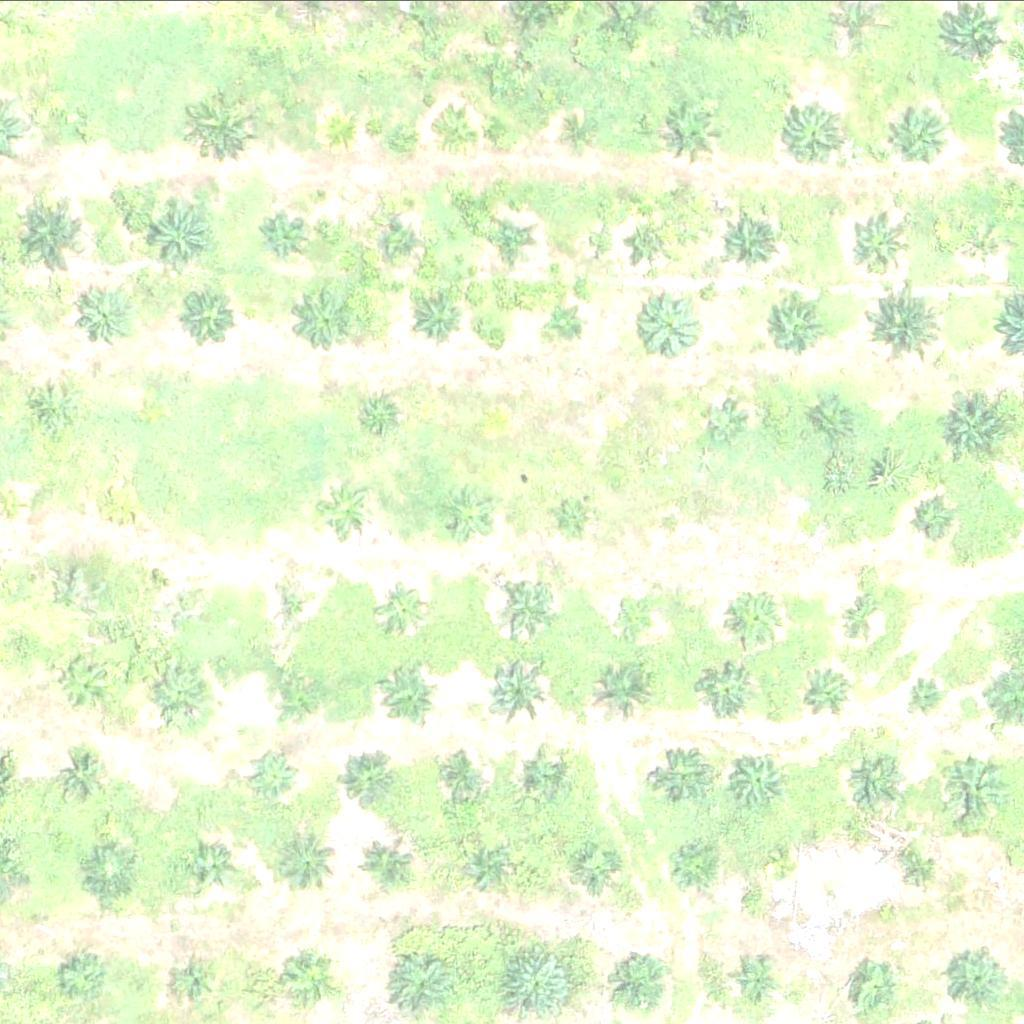Kelapa_Sawit: (8, 189, 96, 276), (384, 948, 460, 1023), (602, 944, 678, 1019), (928, 749, 1004, 824), (498, 944, 574, 1019), (871, 290, 946, 365), (139, 198, 214, 273), (635, 296, 698, 359), (439, 485, 502, 548), (653, 742, 716, 805), (74, 284, 137, 347), (191, 93, 254, 156), (277, 826, 340, 889), (148, 668, 211, 731), (316, 478, 379, 541), (346, 747, 409, 810), (384, 664, 447, 726), (945, 398, 1008, 460), (762, 296, 825, 358), (845, 751, 908, 813), (597, 663, 660, 725), (498, 576, 561, 638), (481, 660, 544, 722), (947, 952, 1010, 1014), (294, 291, 357, 353), (177, 287, 240, 349), (719, 213, 782, 275), (663, 103, 726, 165), (783, 105, 846, 167), (894, 101, 957, 163), (848, 211, 911, 273), (51, 651, 114, 713), (732, 746, 794, 808), (377, 582, 428, 632), (415, 297, 466, 347), (485, 220, 536, 270), (85, 845, 136, 895), (56, 950, 107, 1000), (56, 752, 107, 802), (271, 578, 322, 628), (269, 666, 320, 716), (246, 748, 297, 798), (188, 840, 239, 890), (665, 843, 715, 893), (569, 844, 619, 894), (700, 662, 750, 712), (732, 592, 782, 642), (848, 966, 898, 1016), (265, 216, 315, 266), (290, 951, 340, 1001), (24, 383, 74, 433), (891, 839, 941, 889), (628, 219, 678, 269), (379, 215, 429, 265), (435, 750, 485, 800), (519, 748, 569, 798), (455, 842, 505, 892), (360, 837, 410, 887), (173, 955, 223, 1005), (804, 667, 854, 717), (738, 963, 776, 1001), (906, 676, 944, 714), (322, 112, 360, 150), (444, 110, 482, 148), (564, 111, 602, 149), (94, 486, 132, 524), (365, 395, 403, 433), (617, 599, 655, 637), (800, 501, 838, 539), (842, 595, 880, 633), (816, 397, 854, 434), (965, 222, 1003, 259), (914, 496, 951, 534), (548, 305, 586, 342), (146, 580, 184, 617), (554, 497, 591, 534), (704, 402, 741, 439), (74, 115, 99, 140), (766, 855, 791, 880)
